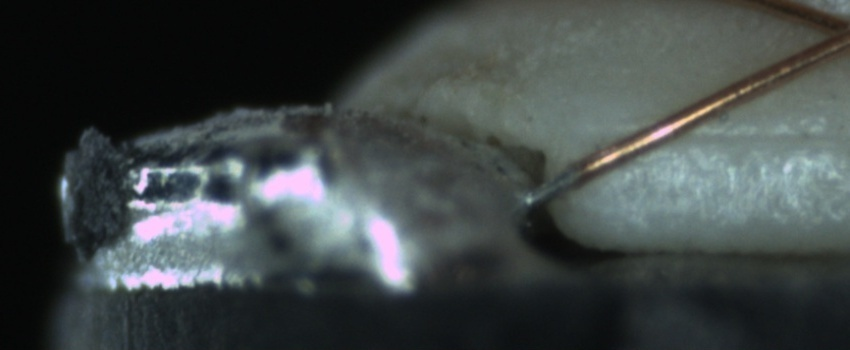CL: (803, 2, 850, 62)
DL: (636, 105, 843, 169)
TS: (523, 164, 583, 205)
